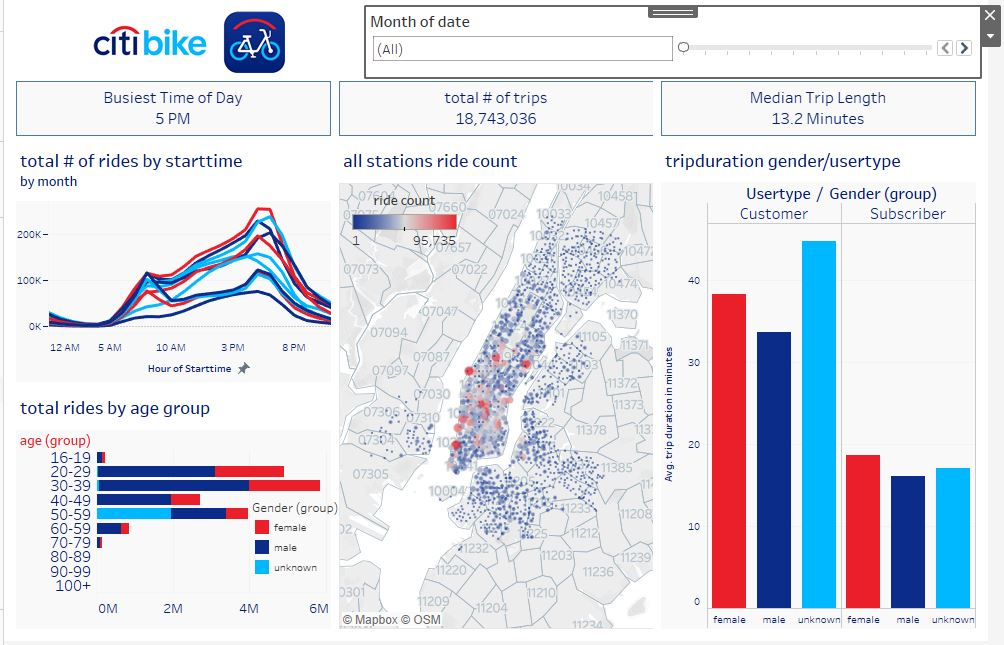

The page's visual inventory and layout, read from the dashboard file:
{"tool":"tableau","page":{"name":"Dashboard 2","canvas":[984,642],"ordinal":0},"visuals":[{"type":"worksheet","box":[0,0,984,642]},{"type":"worksheet","param":"horz","box":[8,8,968,626]},{"type":"worksheet","param":"horz","box":[8,8,968,626]},{"type":"worksheet","param":"horz","box":[8,8,968,626]},{"type":"worksheet","box":[8,8,968,626]},{"type":"worksheet","param":"E:/2020 citibike/citibike-new.jpg","box":[8,8,354.1,69.8]},{"type":"worksheet","title":"zip code map all stations ride count","mark":"Automatic","rows":["start_station_latitude"],"cols":["start_station_longitude"],"param":"[federated.18ommw50hgipqt157vt9g0hmbfxk].[mn:Calculation_1490691542356111362:ok]","box":[362.1,8,613.9,69.8]},{"type":"worksheet","title":"time tile","mark":"Automatic","box":[8,77.8,322.6,63.5]},{"type":"worksheet","title":"total trip tile","mark":"Automatic","box":[330.6,77.8,322.7,63.5]},{"type":"worksheet","title":"length tile","mark":"Automatic","box":[653.3,77.8,322.7,63.5]},{"type":"worksheet","title":"starttime/month","mark":"Automatic","rows":["Calculation_1490691542355189761"],"cols":["starttime"],"box":[8,141.3,322.6,246.3]},{"type":"worksheet","title":"zip code map all stations ride count","mark":"Automatic","rows":["start_station_latitude"],"cols":["start_station_longitude"],"box":[330.6,141.3,322.7,492.7]},{"type":"worksheet","title":"tripduration gender/usertype","mark":"Automatic","rows":["Calculation_1490691541975056384"],"cols":["usertype"],"box":[653.3,141.3,322.7,492.7]},{"type":"worksheet","title":"zip code map all stations ride count","mark":"Automatic","rows":["start_station_latitude"],"cols":["start_station_longitude"],"param":"[federated.18ommw50hgipqt157vt9g0hmbfxk].[cnt:Calculation_1490691542355189761:qk","box":[344,192,113,61]},{"type":"worksheet","title":"total rides by age group","mark":"Automatic","cols":["Calculation_1490691542355189761"],"box":[8,387.7,322.6,246.3]},{"type":"worksheet","title":"total rides by age group","mark":"Automatic","cols":["Calculation_1490691542355189761"],"param":"[federated.18ommw50hgipqt157vt9g0hmbfxk].[Gender (group)]","box":[248,500,131,80]}]}

Visuals, with their boxes in screenshot pixels (x1, y1, x2, y2), scaled from the page's 984x642 canvas onto the 1004x645 screenshot:
worksheet: (0, 0, 1003, 644)
worksheet: (8, 8, 996, 637)
worksheet: (8, 8, 996, 637)
worksheet: (8, 8, 996, 637)
worksheet: (8, 8, 996, 637)
worksheet: (8, 8, 369, 78)
"zip code map all stations ride count" worksheet: (369, 8, 996, 78)
"time tile" worksheet: (8, 78, 337, 142)
"total trip tile" worksheet: (337, 78, 667, 142)
"length tile" worksheet: (667, 78, 996, 142)
"starttime/month" worksheet: (8, 142, 337, 389)
"zip code map all stations ride count" worksheet: (337, 142, 667, 637)
"tripduration gender/usertype" worksheet: (667, 142, 996, 637)
"zip code map all stations ride count" worksheet: (351, 193, 466, 254)
"total rides by age group" worksheet: (8, 390, 337, 637)
"total rides by age group" worksheet: (253, 502, 387, 583)
